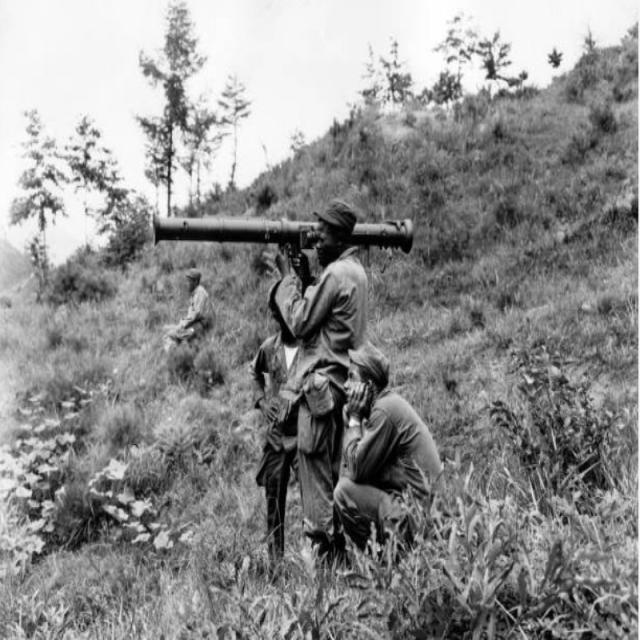bazooka: (152, 212, 416, 257)
